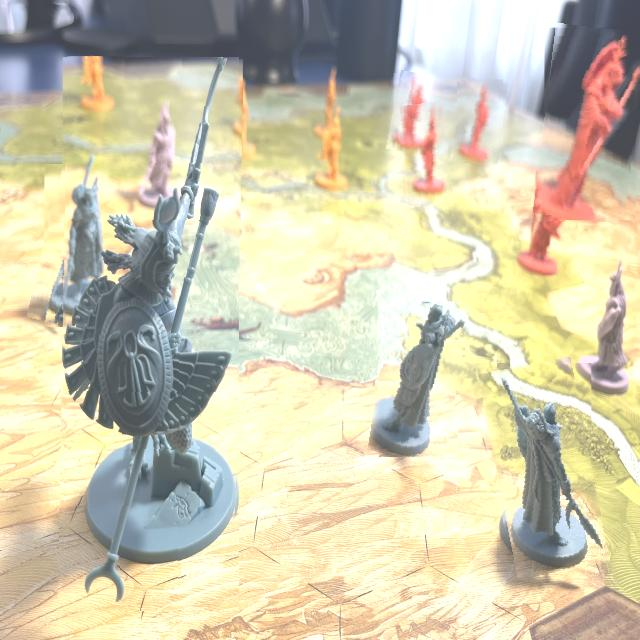amon: (538, 25, 640, 222)
amon_follower: (399, 102, 451, 208), (518, 168, 564, 275), (454, 78, 506, 165), (390, 72, 431, 154)
isis: (61, 56, 241, 612)
isis_follower: (488, 360, 600, 576), (36, 161, 125, 330), (373, 300, 464, 460)
